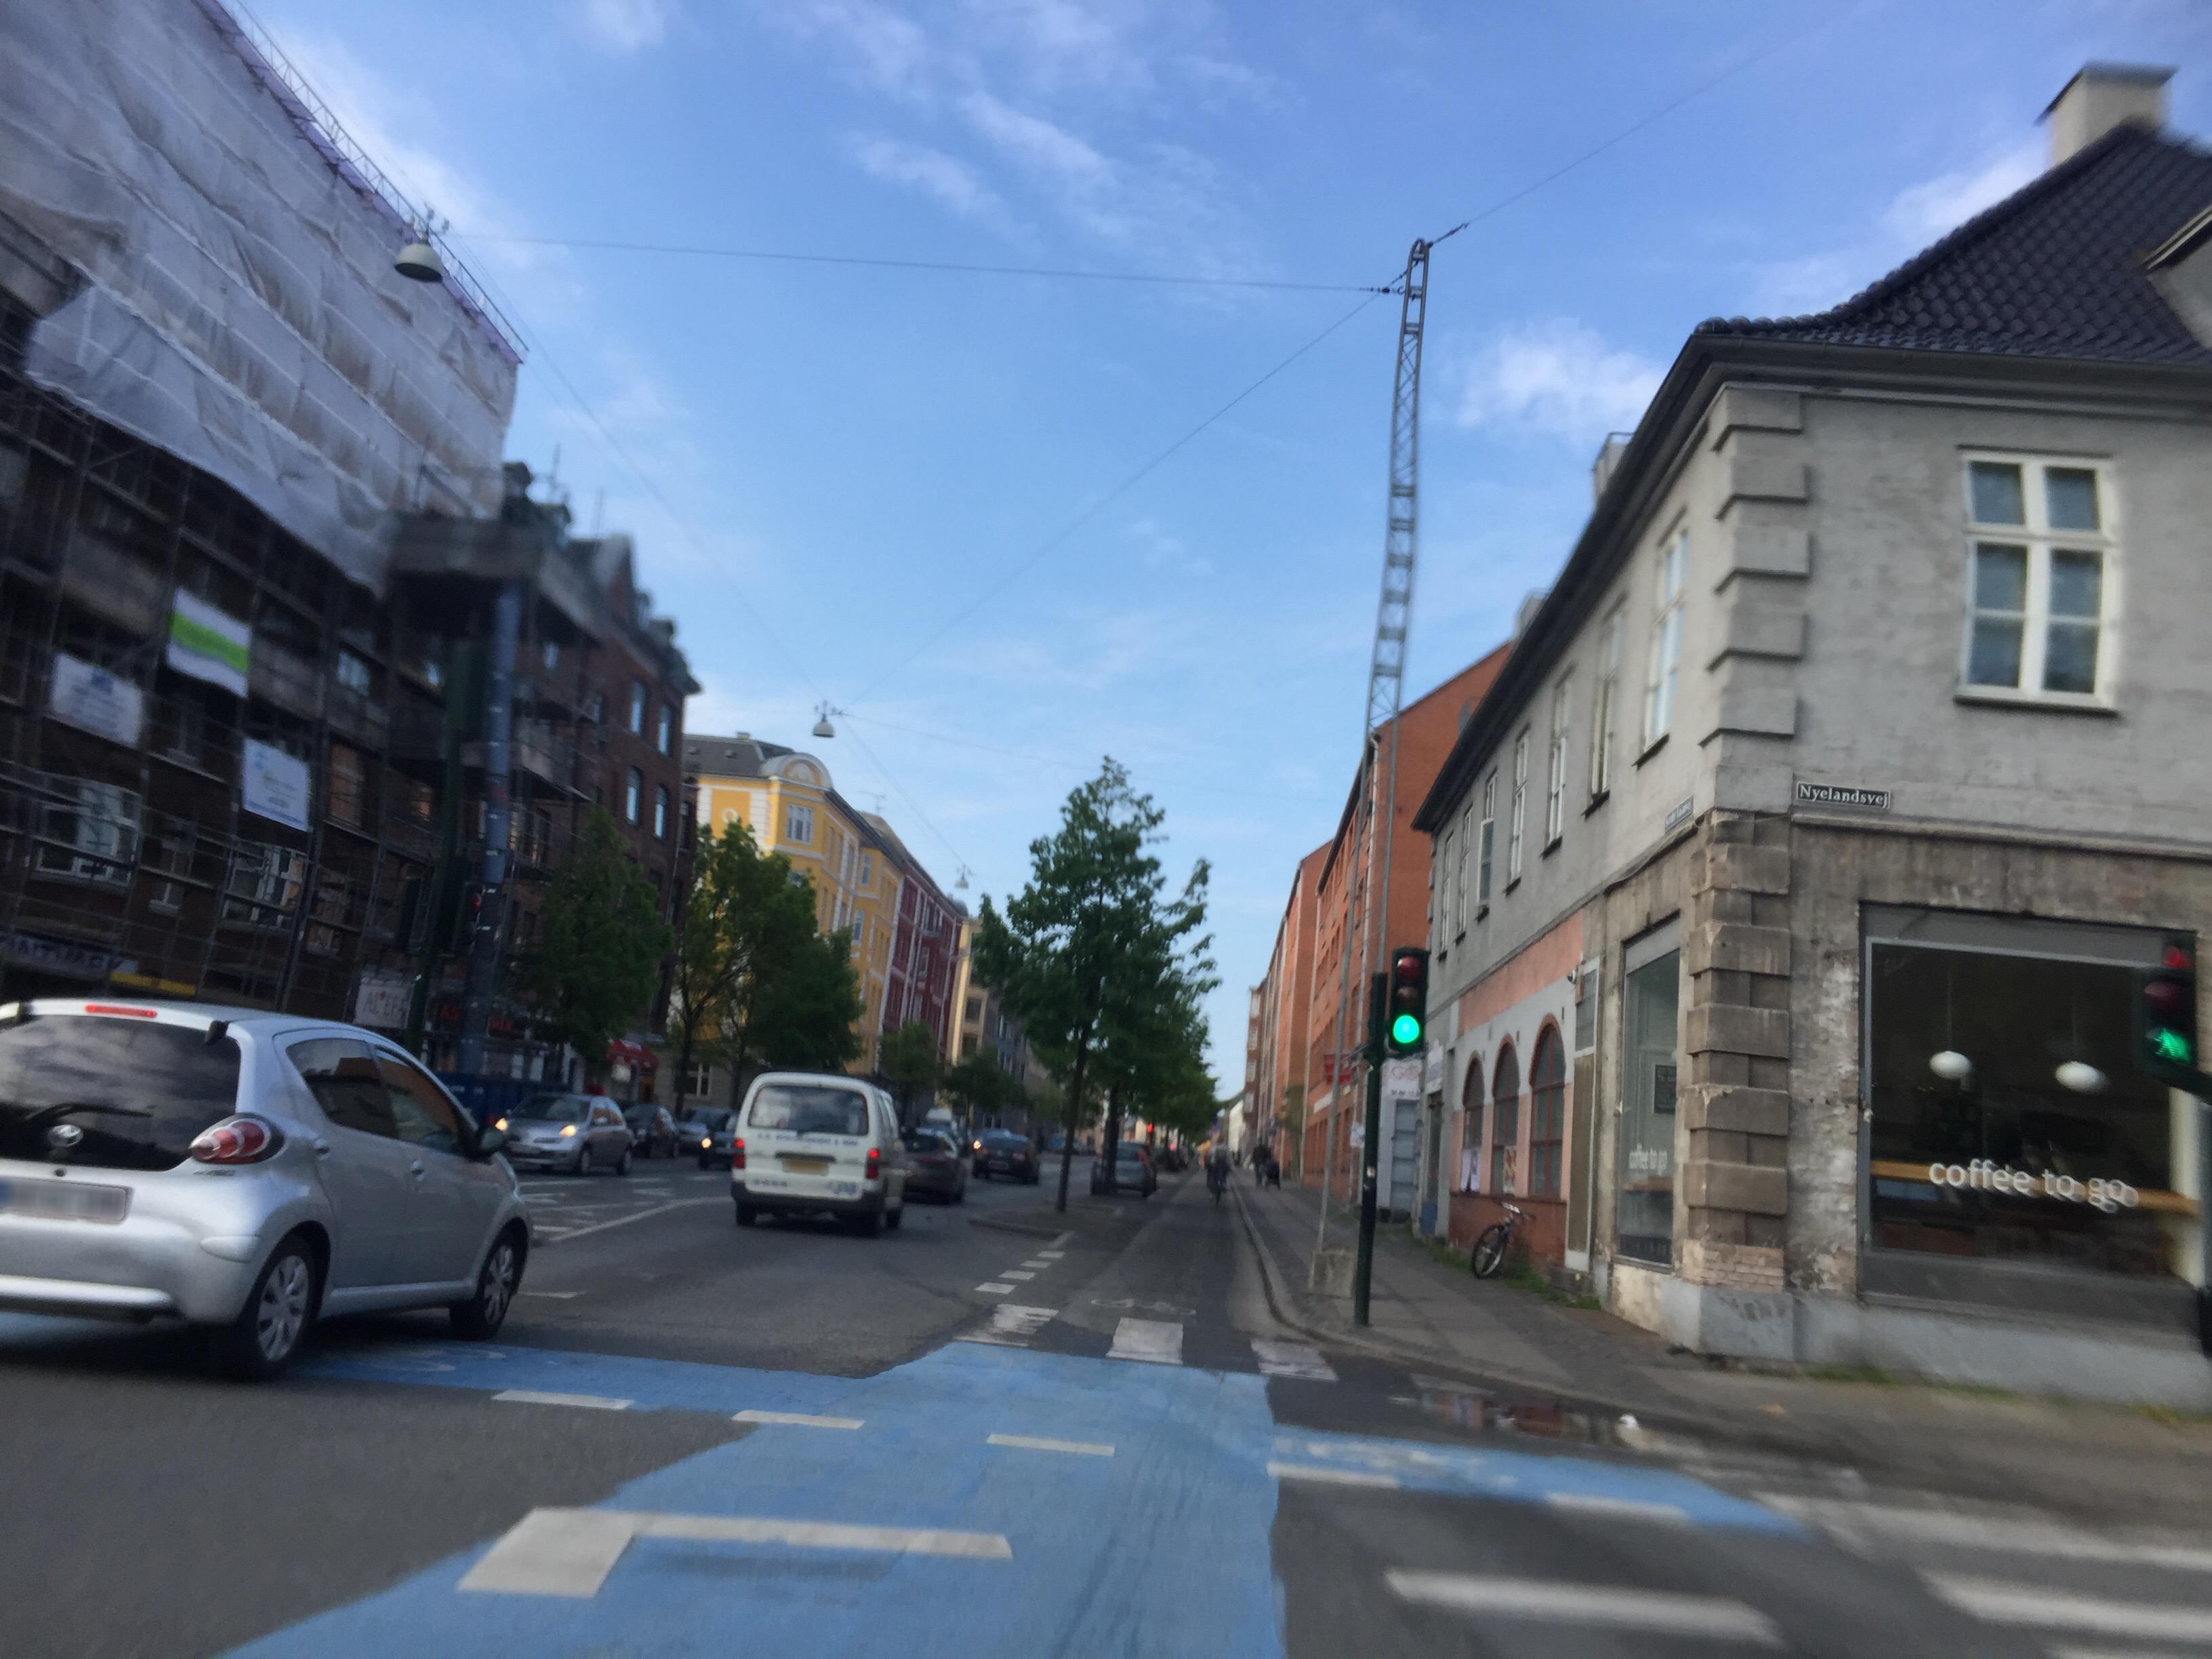vinyl banner: (162, 577, 268, 699), (218, 721, 315, 850), (49, 645, 150, 760)
